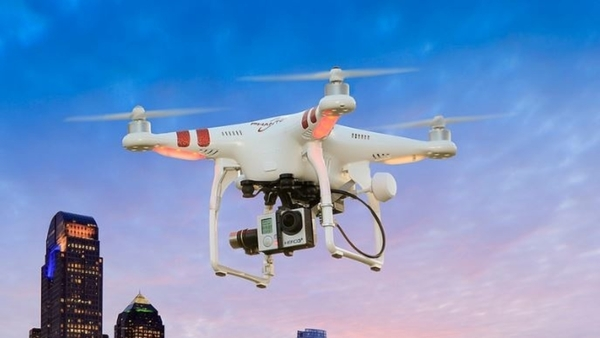drone: (62, 64, 514, 292)
